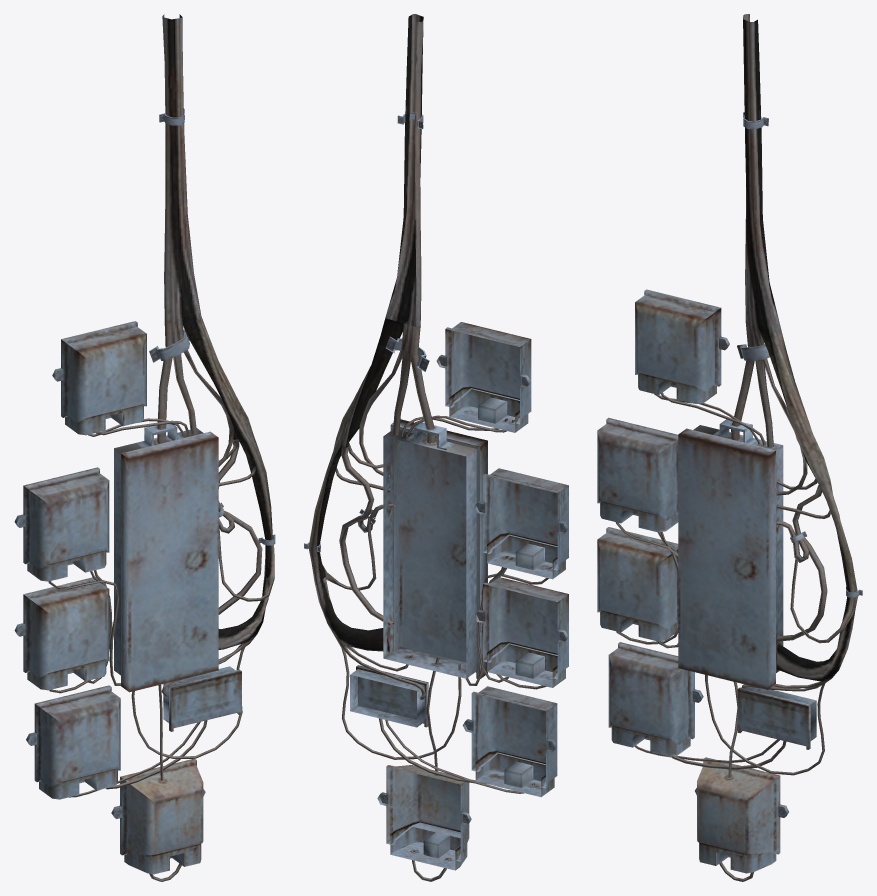
The model's file is sm20_009_electricitybox01a.fbx.
The picture shows the model from 3 angles, left to right: view 1: azimuth 30°, elevation 25°; view 2: azimuth 150°, elevation 25°; view 3: azimuth 330°, elevation 25°; orthographic projection.
Parts seen in each view (by area): view 1: LOD_1_Group_0_Sub_1__sm20_009_electricityBox01A_A_Mat; view 2: LOD_1_Group_0_Sub_1__sm20_009_electricityBox01A_A_Mat; view 3: LOD_1_Group_0_Sub_1__sm20_009_electricityBox01A_A_Mat.
Part boxes in pixels (x1=…): LOD_1_Group_0_Sub_1__sm20_009_electricityBox01A_A_Mat: x1=14, y1=14, x2=275, y2=881; LOD_1_Group_0_Sub_1__sm20_009_electricityBox01A_A_Mat: x1=304, y1=14, x2=568, y2=881; LOD_1_Group_0_Sub_1__sm20_009_electricityBox01A_A_Mat: x1=597, y1=14, x2=862, y2=881.
Bounding box in the file's own units: 0.9429 × 2.97 × 0.1387.
